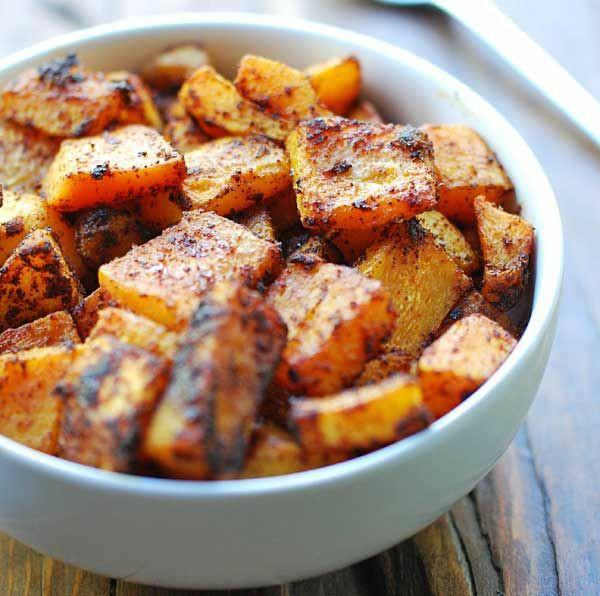AlooMasala: (1, 42, 535, 480)
